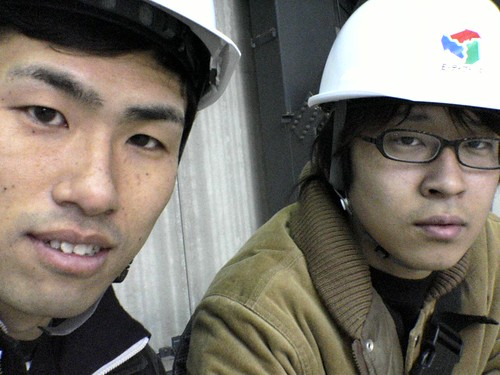person hardhat: (1, 1, 242, 319), (306, 1, 499, 275)
